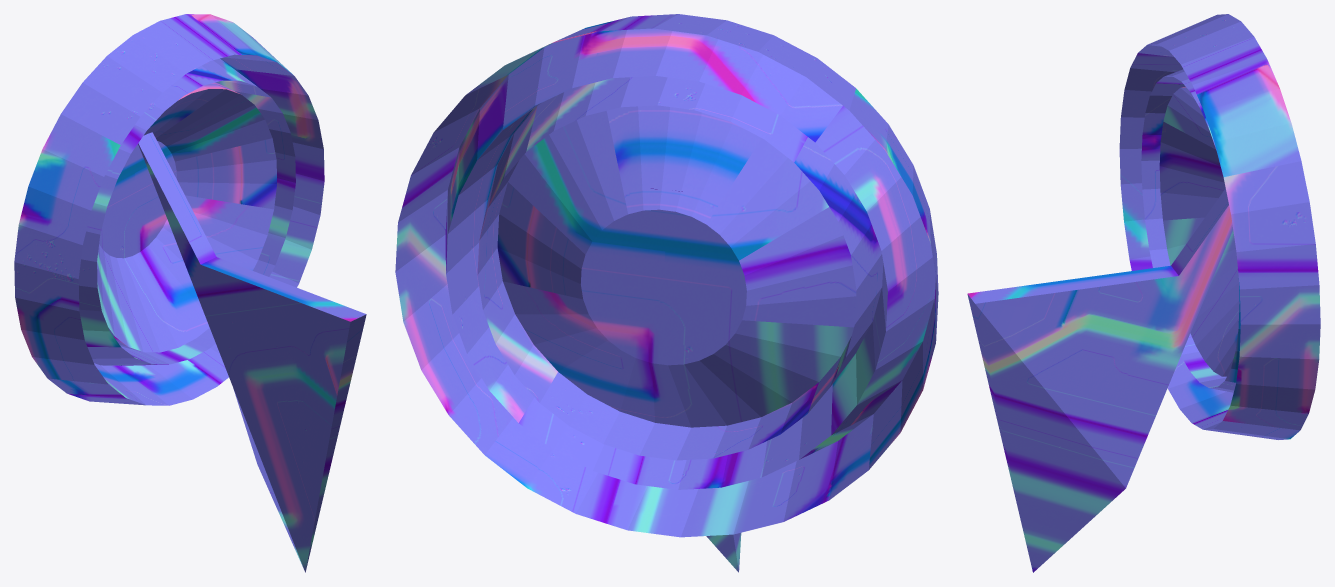
The model's file is radar3.obj.
The picture shows the model from 3 angles, left to right: view 1: azimuth 30°, elevation 25°; view 2: azimuth 150°, elevation 25°; view 3: azimuth 270°, elevation 25°; orthographic projection. The views are drawn at different scales.
Visible parts, largest first — view 1: radar; view 2: radar; view 3: radar.
Part boxes in pixels (box(x1,y1,x2,y2)): radar: box(14, 14, 366, 572); radar: box(395, 14, 938, 572); radar: box(967, 14, 1320, 572).
Bounding box in the file's own units: 0.9414 × 1.3 × 0.8092.
